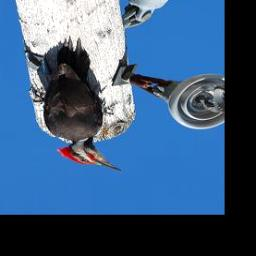Woodpecker: (24, 38, 128, 173)
